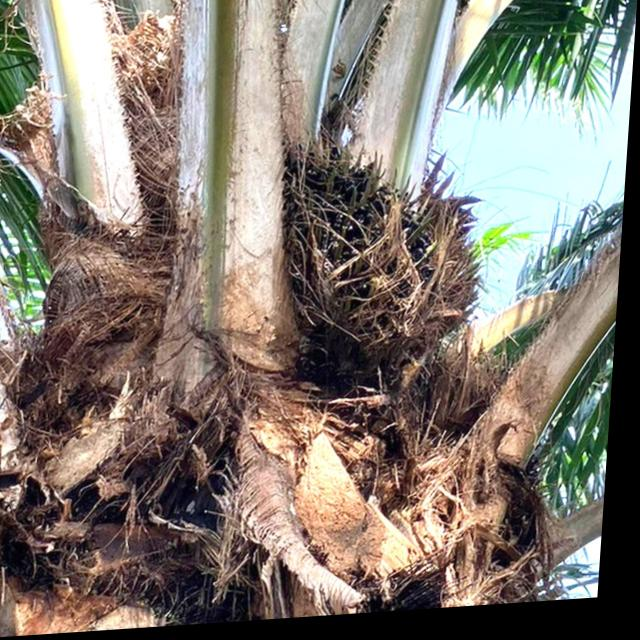unripe: (288, 148, 453, 380)
